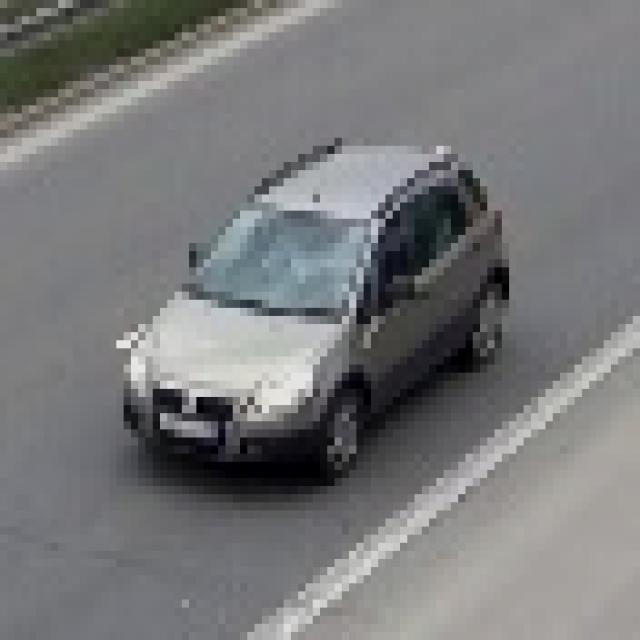SUV: (133, 140, 483, 477)
